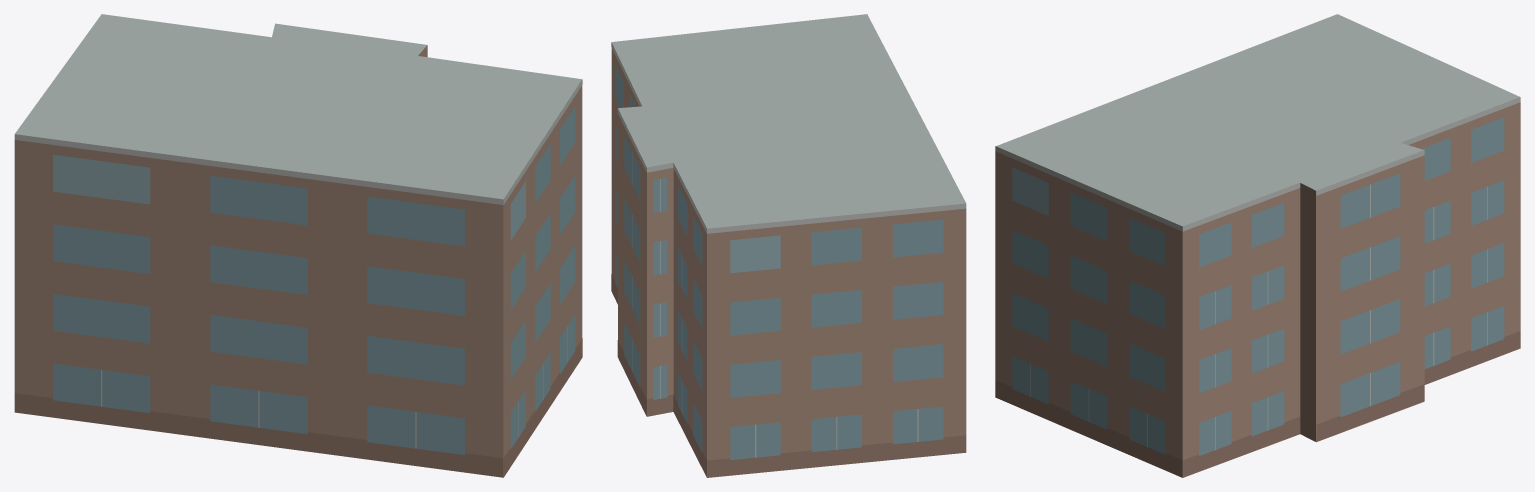
The model's file is survey-upis-32931559.glb.
3 views of the same model, side by side, from view 1: azimuth 30°, elevation 25°; view 2: azimuth 150°, elevation 25°; view 3: azimuth 270°, elevation 25° (orthographic). The views are drawn at different scales.
Visible parts, largest first — view 1: survey-upis-32931559.tmp; view 2: survey-upis-32931559.tmp; view 3: survey-upis-32931559.tmp.
Part boxes in pixels (x1,y1,x2,y2): survey-upis-32931559.tmp: (14, 14, 582, 477); survey-upis-32931559.tmp: (611, 14, 966, 477); survey-upis-32931559.tmp: (995, 14, 1520, 477).
Bounding box in the file's own units: 21.67 × 11.95 × 22.63.
